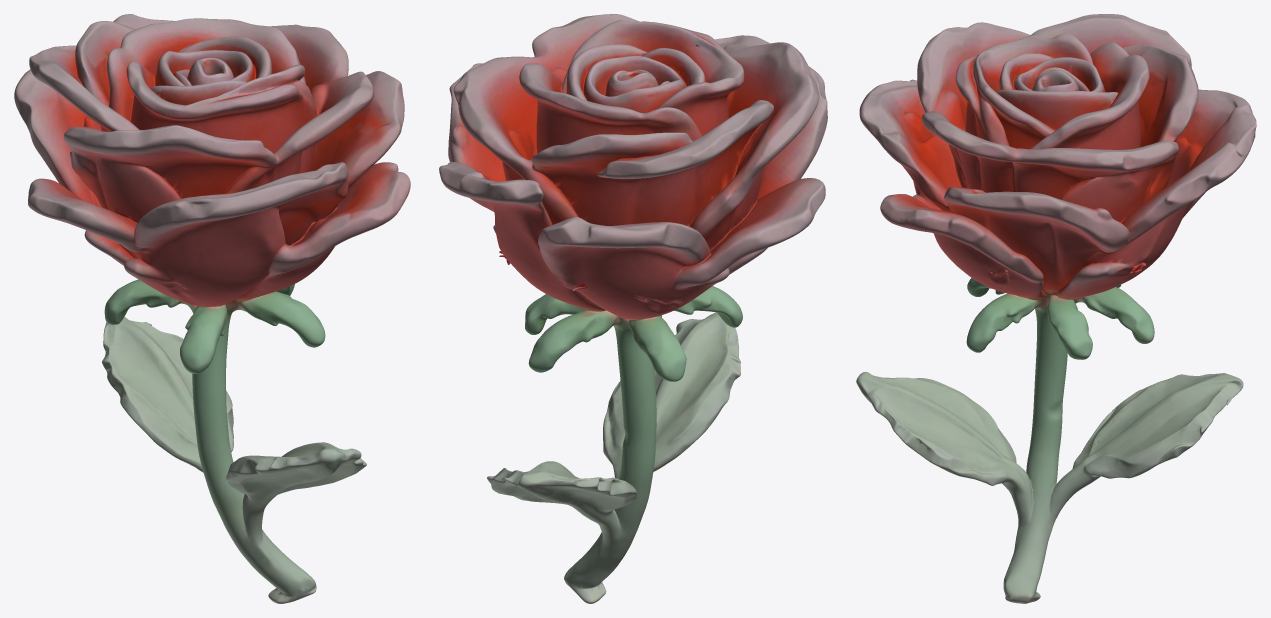
The model's file is glass_rose.glb.
The picture shows the model from 3 angles, left to right: view 1: azimuth 30°, elevation 25°; view 2: azimuth 150°, elevation 25°; view 3: azimuth 270°, elevation 25°; orthographic projection. The views are drawn at different scales.
Parts seen in each view (by area): view 1: tripo_node_69cbfa9c-dae3-4d29-90e0-6898e99ea6dd; view 2: tripo_node_69cbfa9c-dae3-4d29-90e0-6898e99ea6dd; view 3: tripo_node_69cbfa9c-dae3-4d29-90e0-6898e99ea6dd.
Part boxes in pixels (left/top/right/bottom): tripo_node_69cbfa9c-dae3-4d29-90e0-6898e99ea6dd: left=14, top=14, right=410, bottom=603; tripo_node_69cbfa9c-dae3-4d29-90e0-6898e99ea6dd: left=439, top=14, right=827, bottom=603; tripo_node_69cbfa9c-dae3-4d29-90e0-6898e99ea6dd: left=856, top=14, right=1256, bottom=603.
Size of the model in its own units: 0.664 by 1 by 0.7092.
Materials: 1 (1 with a texture image).
